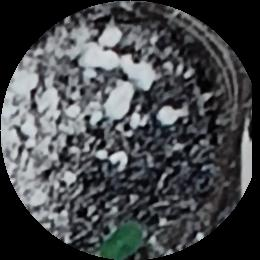Basil: (103, 220, 144, 260)
